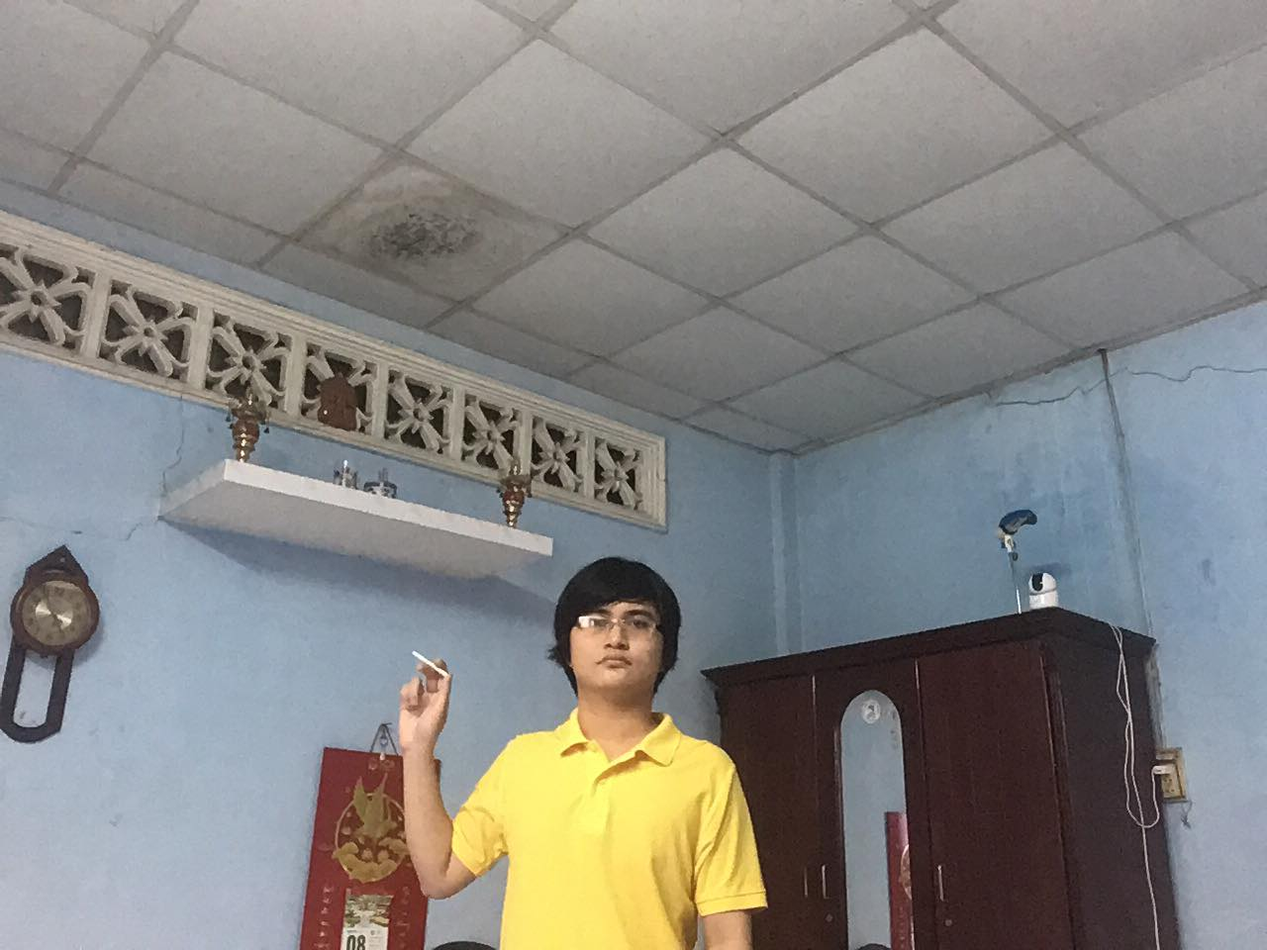cigarette: (409, 646, 434, 666)
person: (392, 553, 778, 950)
